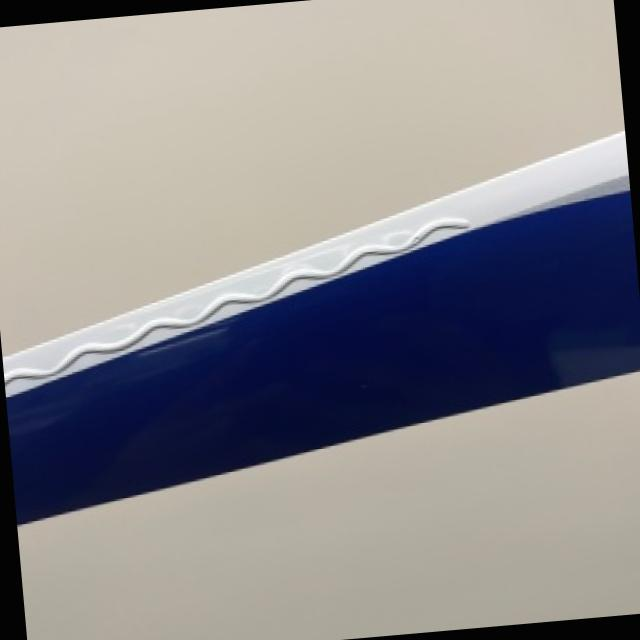healthy: (20, 493, 253, 640)
